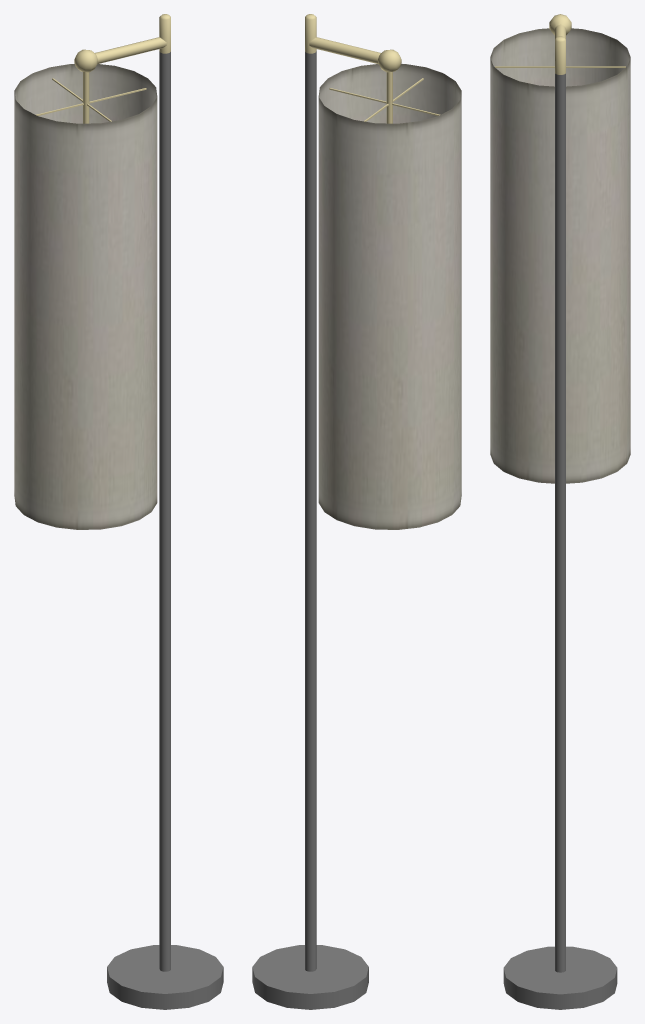
Rendered from FloorLamp01.fbx.
3 renders of one model, left to right at view 1: azimuth 30°, elevation 25°; view 2: azimuth 150°, elevation 25°; view 3: azimuth 270°, elevation 25°, orthographic. The views are drawn at different scales.
Parts seen in each view (by area): view 1: Tulipa, Tulipa4, Metal01, Metal02; view 2: Tulipa, Tulipa4, Metal01, Metal02; view 3: Tulipa, Tulipa4, Metal01, Metal02.
Part boxes in pixels (bbox=[...]): Tulipa: bbox=[14, 64, 157, 529]; Tulipa4: bbox=[14, 63, 157, 527]; Metal01: bbox=[107, 51, 223, 1009]; Metal02: bbox=[74, 14, 170, 123]; Tulipa: bbox=[318, 63, 461, 529]; Tulipa4: bbox=[318, 64, 461, 527]; Metal01: bbox=[252, 51, 368, 1009]; Metal02: bbox=[305, 14, 401, 123]; Tulipa: bbox=[490, 28, 630, 483]; Tulipa4: bbox=[490, 28, 630, 482]; Metal01: bbox=[503, 73, 617, 1009]; Metal02: bbox=[549, 14, 571, 74].
Size of the model in its own units: 0.3794 by 1.83 by 0.2455.
